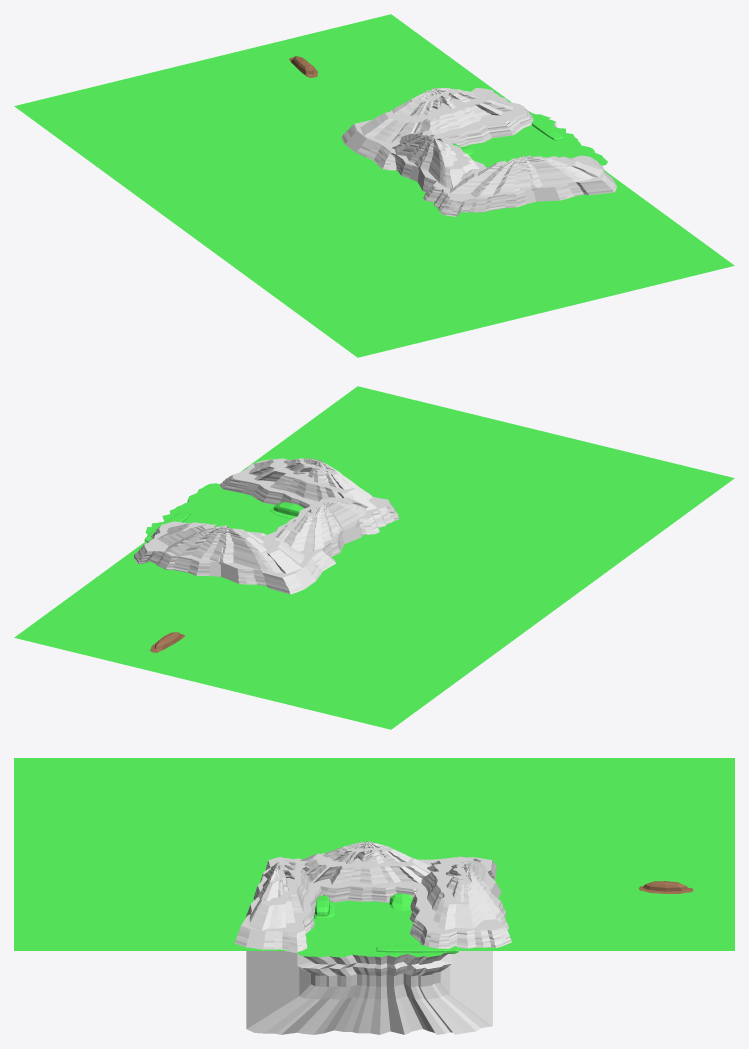
The model's file is mapNTO2222.fbx.
3 views of the same model, one above another, from view 1: azimuth 30°, elevation 25°; view 2: azimuth 150°, elevation 25°; view 3: azimuth 270°, elevation 25° (orthographic). The views are drawn at different scales.
Visible parts, largest first — view 1: Plane.004, Plane.003, Plane.002, Plane.001, Plane; view 2: Plane.004, Plane.003, Plane.002, Plane.001, Plane; view 3: Plane.004, Plane, Plane.003, Plane.001, Plane.002, Cube.003, Cube.002.
Part boxes in pixels (<box>): Plane.004: <box>14,14,734,357</box>; Plane.003: <box>341,87,533,170</box>; Plane.002: <box>423,155,616,216</box>; Plane.001: <box>380,130,485,192</box>; Plane: <box>465,114,607,171</box>; Plane.004: <box>14,386,734,729</box>; Plane.003: <box>134,521,336,594</box>; Plane.002: <box>220,458,398,534</box>; Plane.001: <box>267,497,375,559</box>; Plane: <box>145,483,291,535</box>; Plane.004: <box>14,758,734,950</box>; Plane: <box>246,900,492,1034</box>; Plane.003: <box>409,856,511,948</box>; Plane.001: <box>296,841,438,902</box>; Plane.002: <box>235,857,322,953</box>; Cube.003: <box>376,945,458,953</box>; Cube.002: <box>639,881,693,893</box>.
Size of the model in its own units: 38600 by 10239 by 58020.
